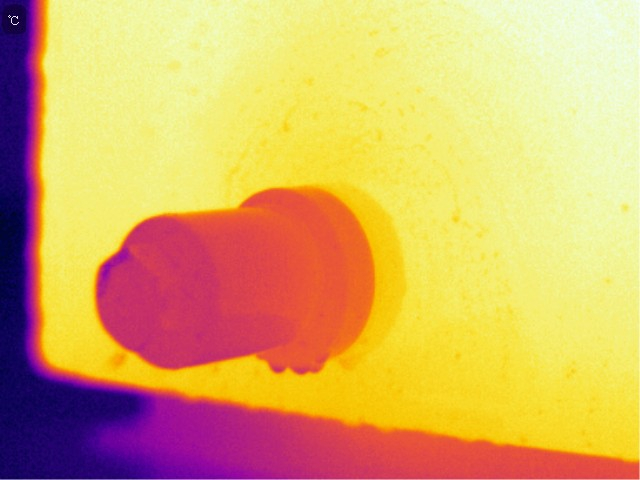Water: (294, 363, 330, 384), (267, 364, 290, 382)
